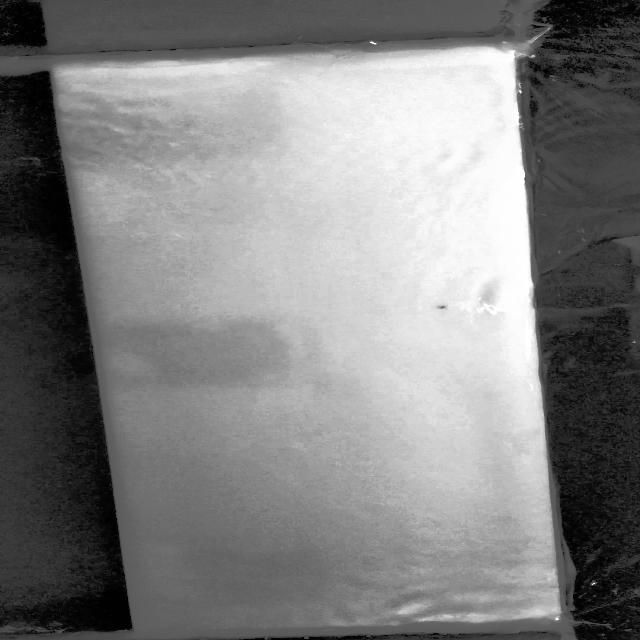shrimp: (414, 295, 470, 320)
